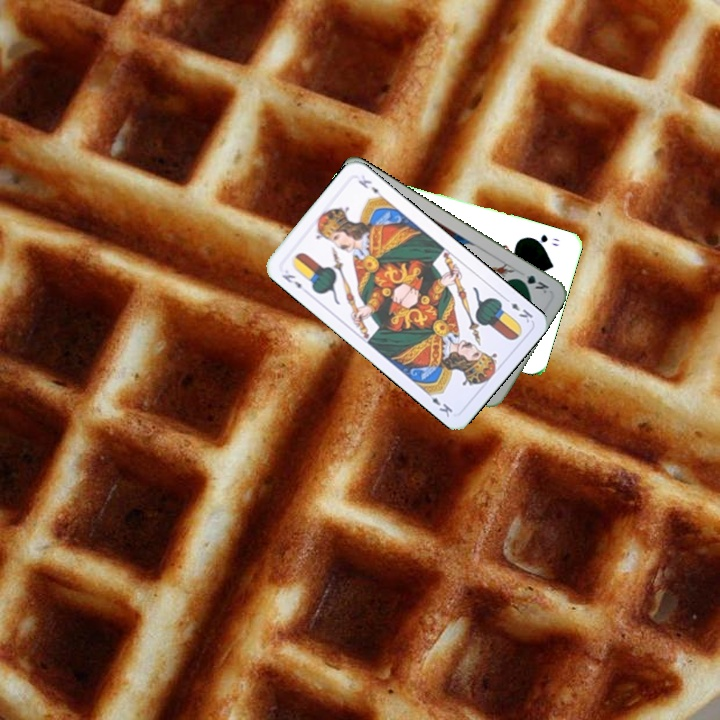EK: (500, 293, 535, 326), (278, 270, 304, 291)
GK: (513, 270, 552, 296)
GO: (526, 230, 562, 249)
